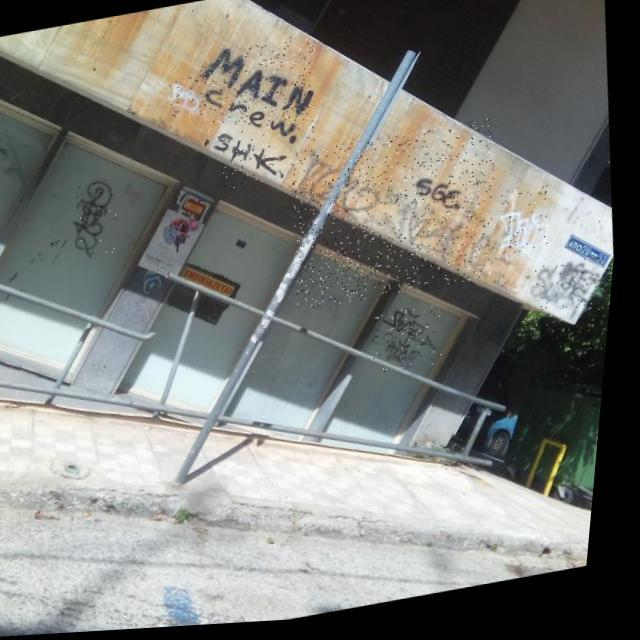-: (283, 122, 514, 316), (193, 36, 325, 163), (202, 122, 296, 196), (530, 263, 614, 333), (373, 308, 454, 380), (68, 176, 128, 262), (500, 188, 559, 262), (417, 172, 471, 224), (168, 77, 207, 122), (382, 180, 424, 220), (0, 129, 5, 201)
